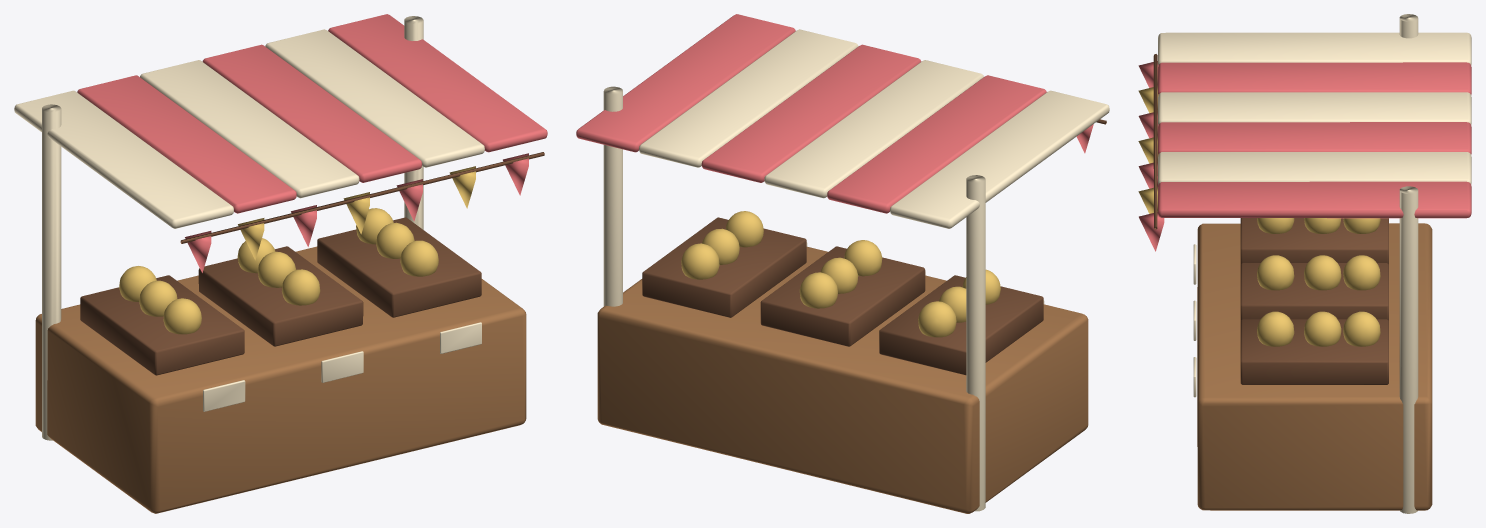
File: race_stall_mobile.glb
The picture shows the model from 3 angles, left to right: view 1: azimuth 30°, elevation 25°; view 2: azimuth 150°, elevation 25°; view 3: azimuth 270°, elevation 25°; orthographic projection. The views are drawn at different scales.
Parts seen in each view (by area): view 1: race_stall, CraftDetails; view 2: race_stall; view 3: race_stall, CraftDetails.
Boxes of the visible parts, x1,y1,x2,y2 form: race_stall: [14, 14, 547, 513]; CraftDetails: [203, 322, 481, 411]; race_stall: [576, 14, 1109, 513]; race_stall: [1138, 14, 1471, 513]; CraftDetails: [1193, 244, 1196, 397].
Size of the model in its own units: 5.44 by 4.5 by 4.25.
